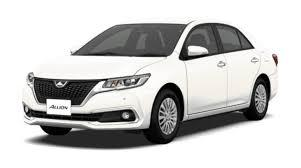windshield: (67, 20, 190, 57)
